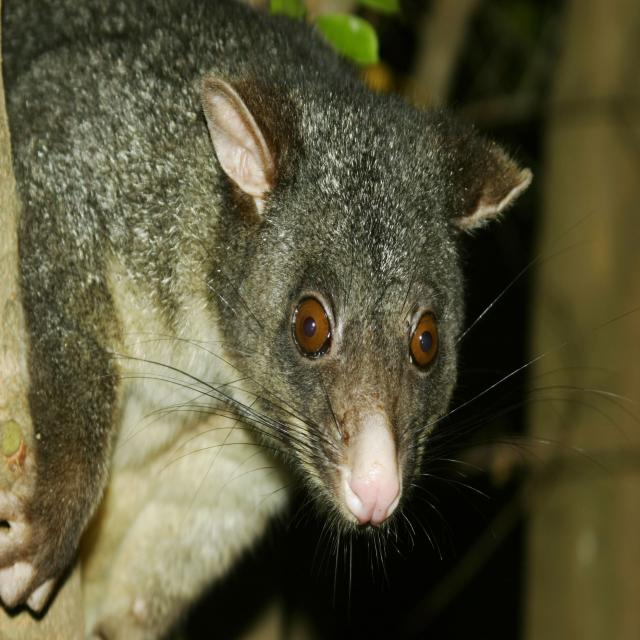Possum: (0, 0, 529, 609)
